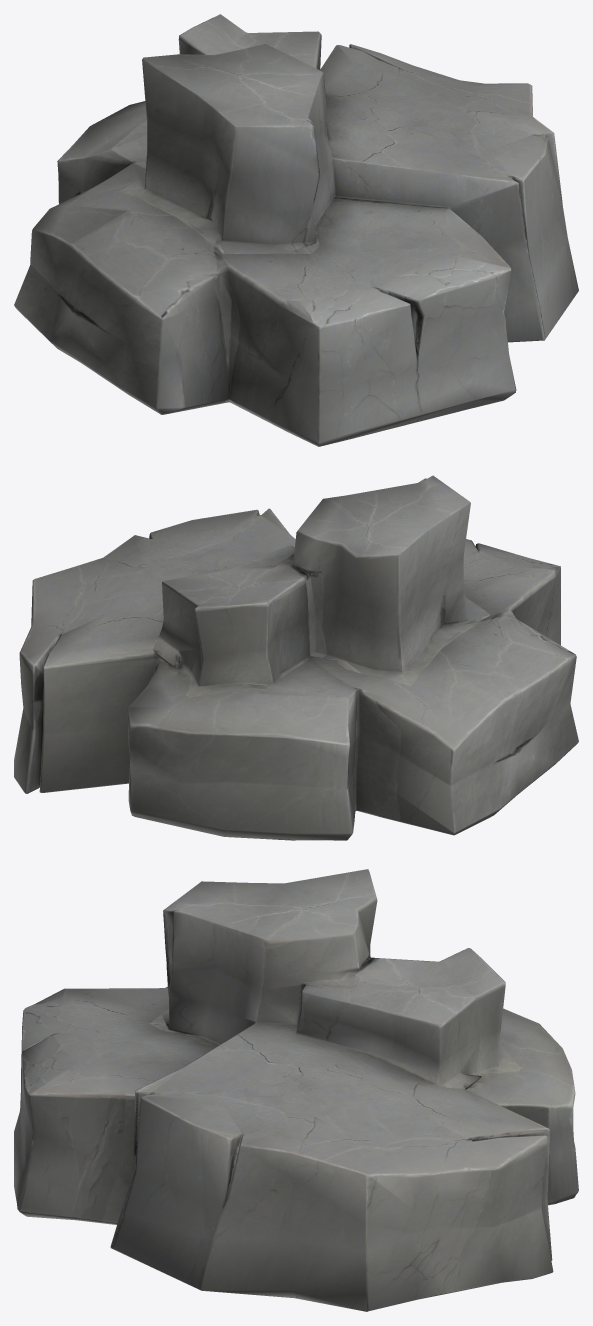
Rendered from Stone.fbx.
The picture shows the model from 3 angles, top to bottom: view 1: azimuth 30°, elevation 25°; view 2: azimuth 150°, elevation 25°; view 3: azimuth 270°, elevation 25°; orthographic projection. The views are drawn at different scales.
Visible parts, largest first — view 1: Mesh_0; view 2: Mesh_0; view 3: Mesh_0.
Part boxes in pixels (x1,y1,x2,y2): Mesh_0: (14,14,578,446); Mesh_0: (14,475,578,840); Mesh_0: (14,869,578,1311).
Bounding box in the file's own units: 200 × 102 × 200.
1 material, 1 textured.
